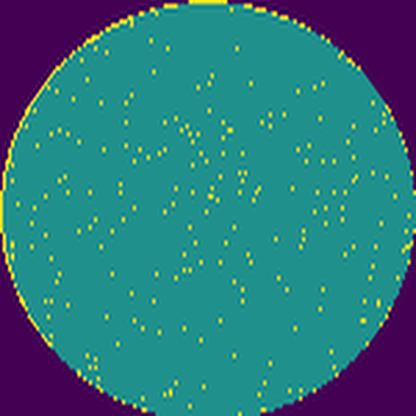Edge-Ring: (0, 0, 361, 349)
